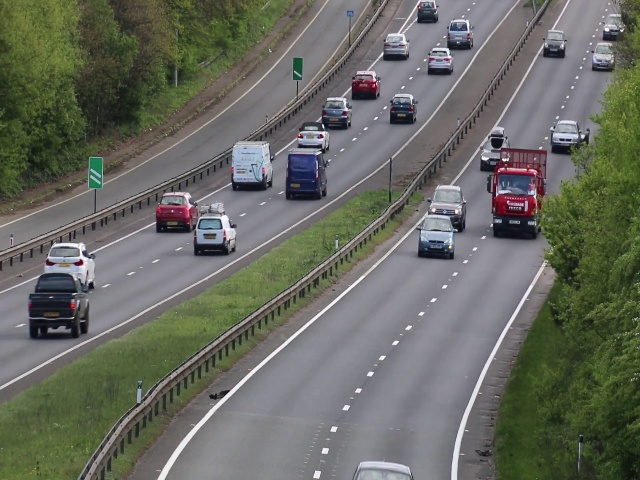car: (23, 272, 92, 342), (491, 171, 542, 235), (231, 140, 274, 190), (286, 147, 326, 197), (194, 215, 239, 254), (155, 190, 196, 231), (417, 216, 456, 258), (44, 243, 95, 271), (426, 184, 464, 216), (321, 96, 353, 130), (350, 68, 381, 103), (295, 122, 331, 149), (388, 92, 417, 125), (446, 17, 475, 49), (552, 118, 581, 149), (429, 44, 454, 74), (542, 28, 566, 59), (592, 41, 613, 70), (480, 140, 500, 170), (416, 1, 439, 23), (604, 11, 621, 36)
